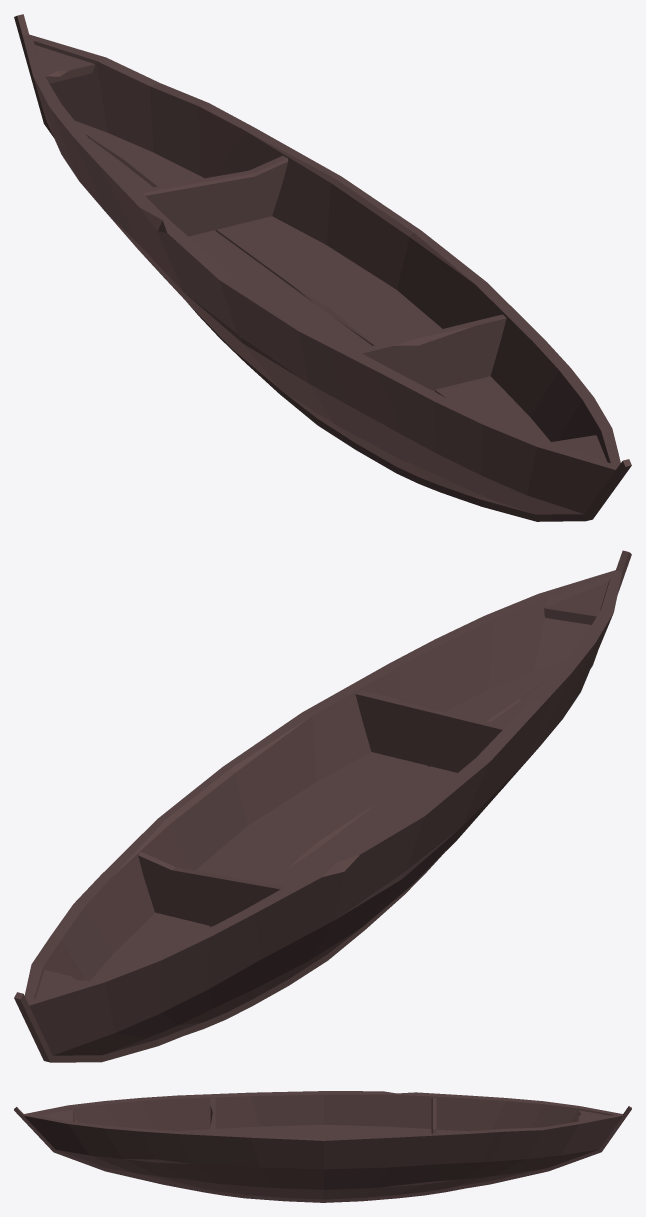
File: fisher_7.FBX
The picture shows the model from 3 angles, top to bottom: view 1: azimuth 30°, elevation 25°; view 2: azimuth 150°, elevation 25°; view 3: azimuth 270°, elevation 25°; orthographic projection. The views are drawn at different scales.
Parts seen in each view (by area): view 1: fisher_7; view 2: fisher_7; view 3: fisher_7.
Boxes of the visible parts, x1,y1,x2,y2 form: fisher_7: (14, 14, 631, 521); fisher_7: (14, 550, 631, 1062); fisher_7: (14, 1091, 631, 1202).
Bounding box in the file's own units: 46.44 × 41.22 × 243.
